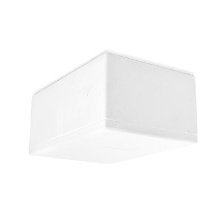foam_box: (22, 46, 207, 173)
